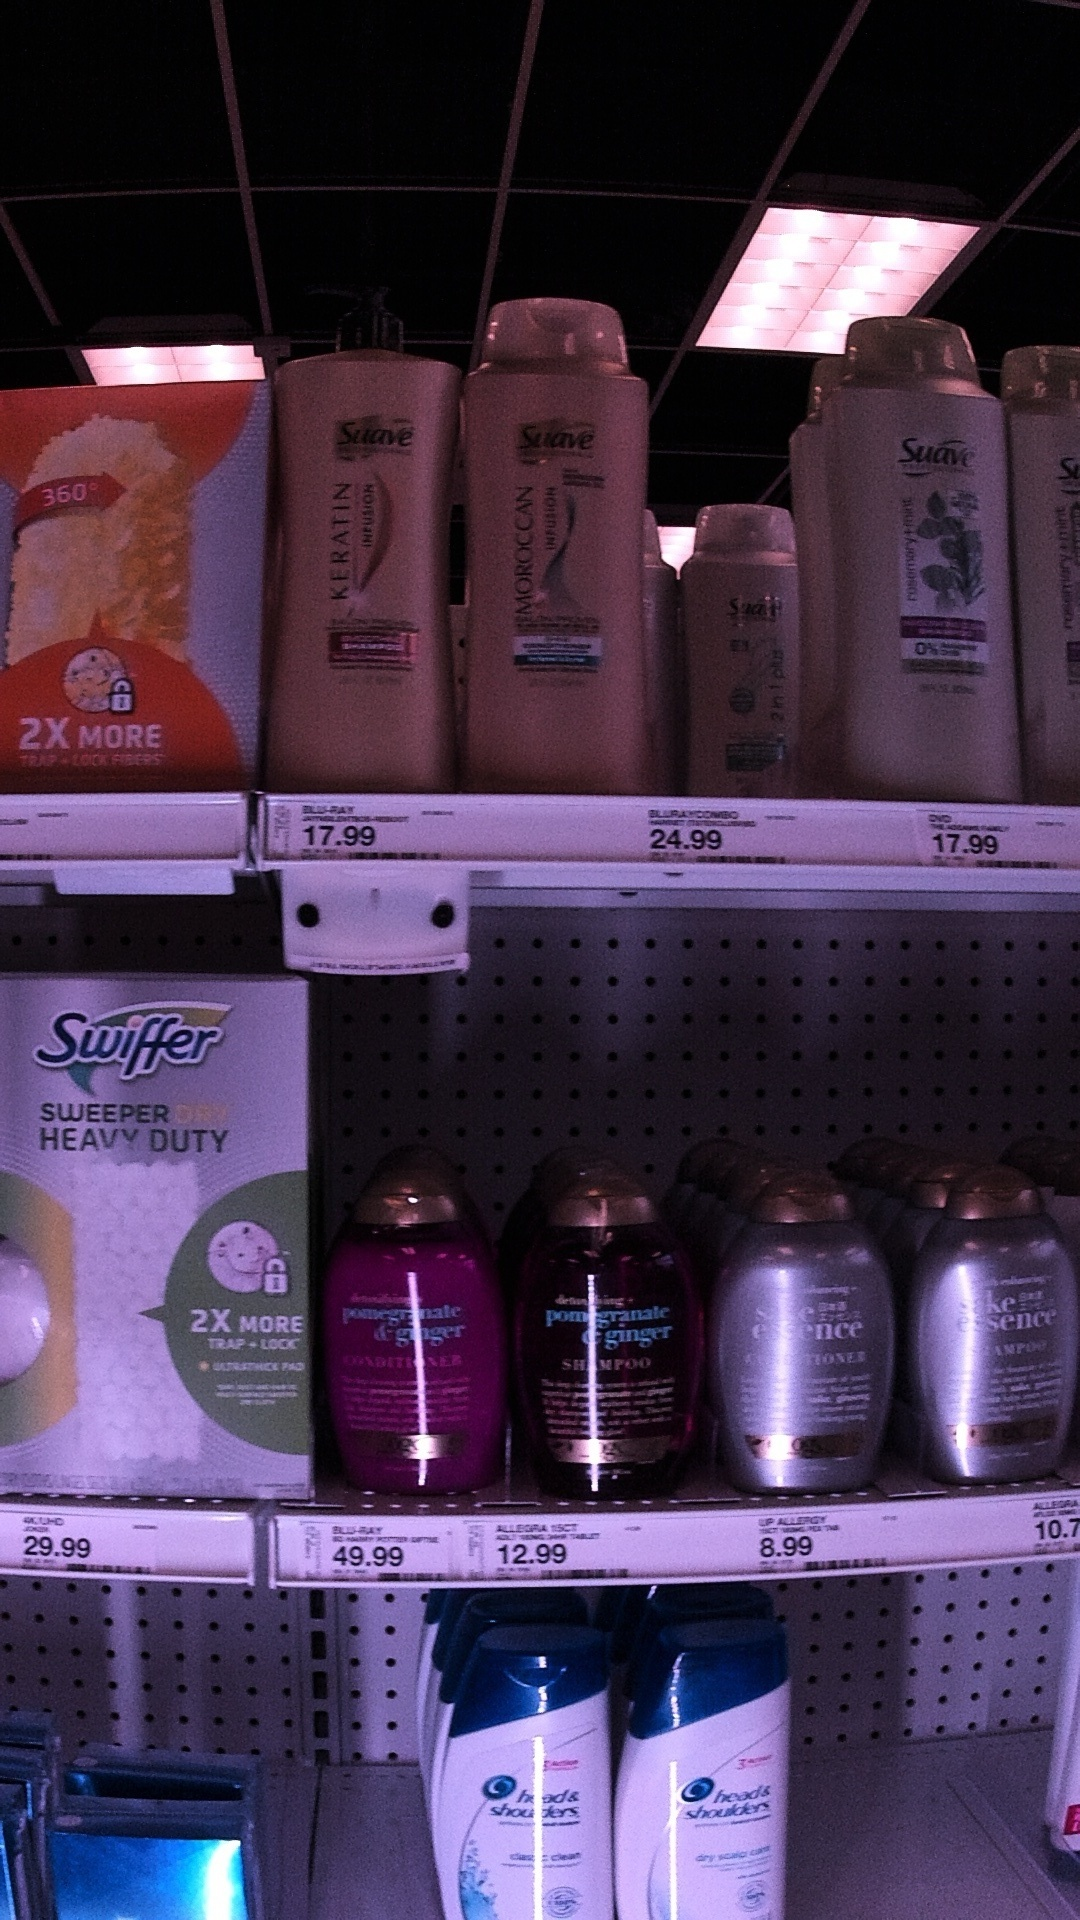ptag: (262, 791, 480, 869), (640, 796, 798, 876), (301, 1516, 455, 1592), (480, 1520, 633, 1596), (911, 808, 1077, 877), (13, 1506, 160, 1582), (749, 1511, 898, 1580)
